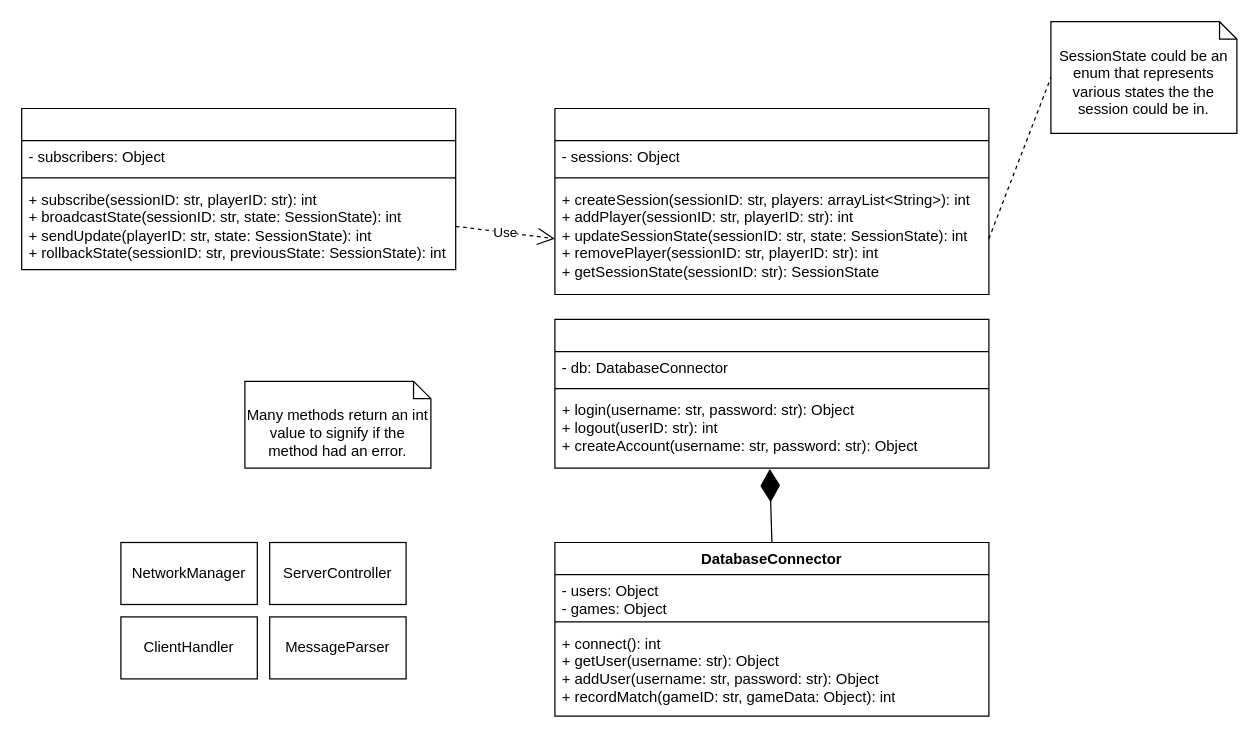
This 1259x742 diagram has some shape labels left out. The shapes that lost their labels are listed below. From the top down, each one's box as (x1, y1, x2, y2) in pixels, then its label:
(20, 107, 456, 270): GameStateSynchronizer
(554, 107, 989, 294): GameSessionManager
(554, 318, 989, 468): AuthHandler
